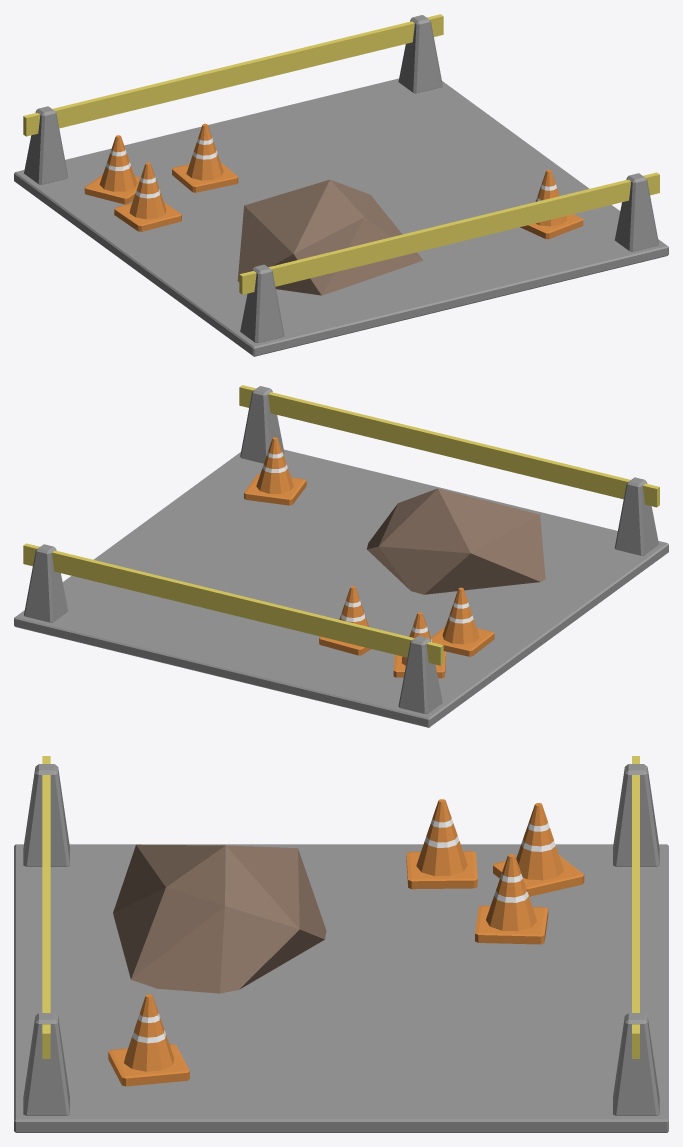
File: empty lot 2.fbx
3 renders of one model, top to bottom at view 1: azimuth 30°, elevation 25°; view 2: azimuth 150°, elevation 25°; view 3: azimuth 270°, elevation 25°, orthographic. The views are drawn at different scales.
Visible parts, largest first — view 1: Plane, Icosphere, Cube.004, Cube.005, Cube.003, Cube, Cube.001, Cube.002, Cylinder.002, Cylinder.003, Cylinder, Cube.006 (+4 smaller); view 2: Plane, Icosphere, Cube.004, Cube.005, Cube, Cube.001, Cube.003, Cube.002, Cylinder.004, Cylinder.003, Cube.009, Cube.008 (+1 smaller); view 3: Plane, Icosphere, Cube.002, Cube.003, Cube.001, Cube, Cube.004, Cylinder, Cylinder.003, Cylinder.004, Cylinder.002, Cube.005 (+4 smaller).
Boxes of the visible parts, x1=… form: Plane: x1=14, y1=78, x2=668, y2=356; Icosphere: x1=237, y1=179, x2=423, y2=295; Cube.004: x1=239, y1=172, x2=659, y2=294; Cube.005: x1=23, y1=14, x2=443, y2=136; Cube.003: x1=398, y1=15, x2=442, y2=93; Cube: x1=24, y1=106, x2=68, y2=184; Cube.001: x1=240, y1=264, x2=284, y2=342; Cube.002: x1=615, y1=173, x2=658, y2=251; Cylinder.002: x1=99, y1=135, x2=137, y2=191; Cylinder.003: x1=129, y1=162, x2=166, y2=219; Cylinder: x1=186, y1=123, x2=223, y2=180; Cube.006: x1=172, y1=162, x2=238, y2=192; Plane: x1=14, y1=449, x2=668, y2=727; Icosphere: x1=366, y1=488, x2=545, y2=594; Cube.004: x1=239, y1=385, x2=659, y2=507; Cube.005: x1=23, y1=543, x2=443, y2=665; Cube: x1=398, y1=635, x2=442, y2=713; Cube.001: x1=614, y1=477, x2=658, y2=555; Cube.003: x1=24, y1=544, x2=68, y2=622; Cube.002: x1=240, y1=386, x2=284, y2=463; Cylinder.004: x1=256, y1=437, x2=293, y2=493; Cylinder.003: x1=442, y1=587, x2=479, y2=644; Cube.009: x1=244, y1=473, x2=306, y2=505; Cube.008: x1=431, y1=627, x2=494, y2=656; Plane: x1=14, y1=844, x2=668, y2=1132; Icosphere: x1=113, y1=844, x2=326, y2=993; Cube.002: x1=23, y1=1013, x2=69, y2=1115; Cube.003: x1=613, y1=1013, x2=659, y2=1115; Cube.001: x1=23, y1=764, x2=69, y2=866; Cube: x1=613, y1=764, x2=659, y2=866; Cube.004: x1=42, y1=756, x2=50, y2=1058; Cylinder: x1=486, y1=854, x2=537, y2=931; Cylinder.003: x1=416, y1=799, x2=467, y2=876; Cylinder.004: x1=124, y1=994, x2=174, y2=1071; Cylinder.002: x1=516, y1=803, x2=563, y2=880; Cube.005: x1=632, y1=756, x2=639, y2=1058.
Bounding box in the file's own units: 201 × 38.44 × 200.
1 material, 1 textured.
